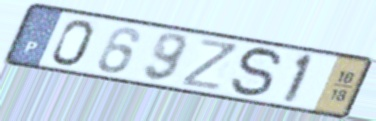0: (50, 18, 99, 68)
1: (278, 52, 316, 106)
6: (96, 25, 142, 75)
9: (141, 30, 188, 84)
S: (227, 45, 286, 99)
Z: (178, 36, 241, 93)
